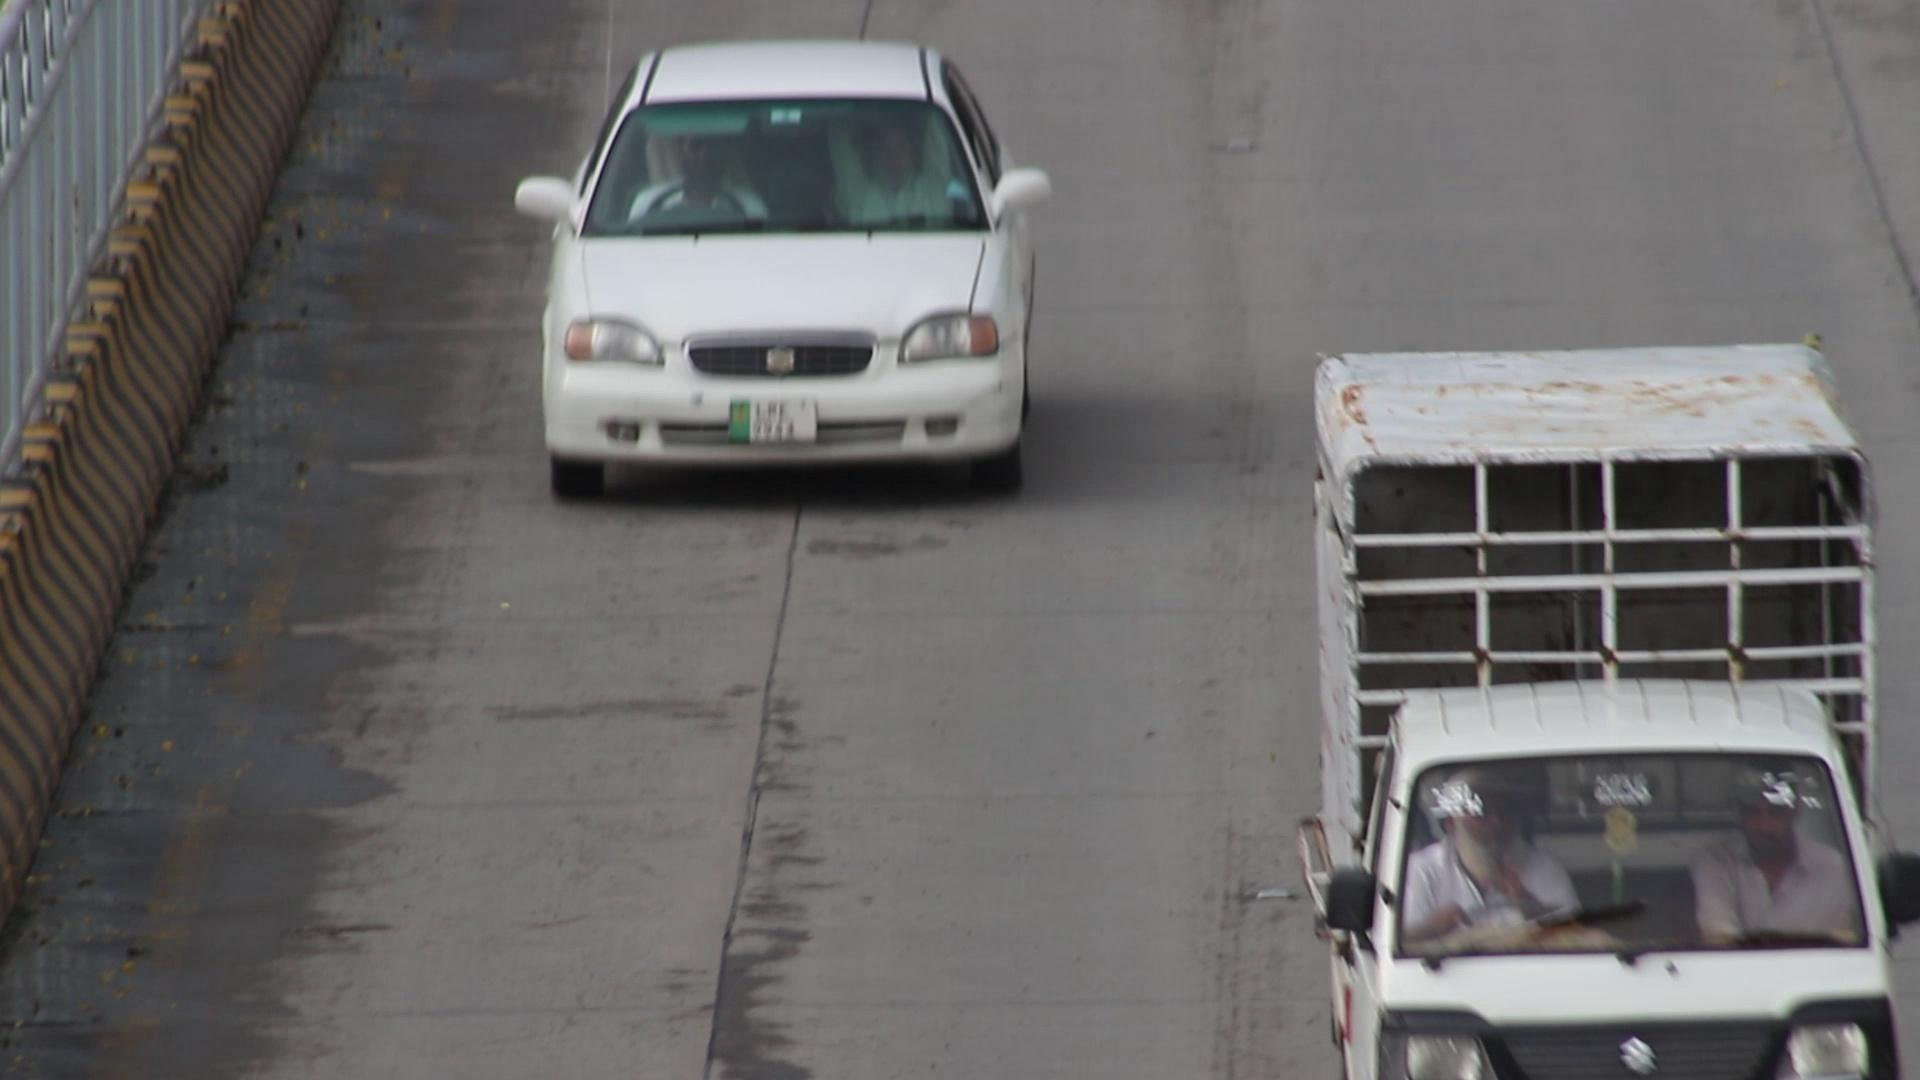windshield: (1383, 746, 1896, 986), (574, 90, 1004, 229)
